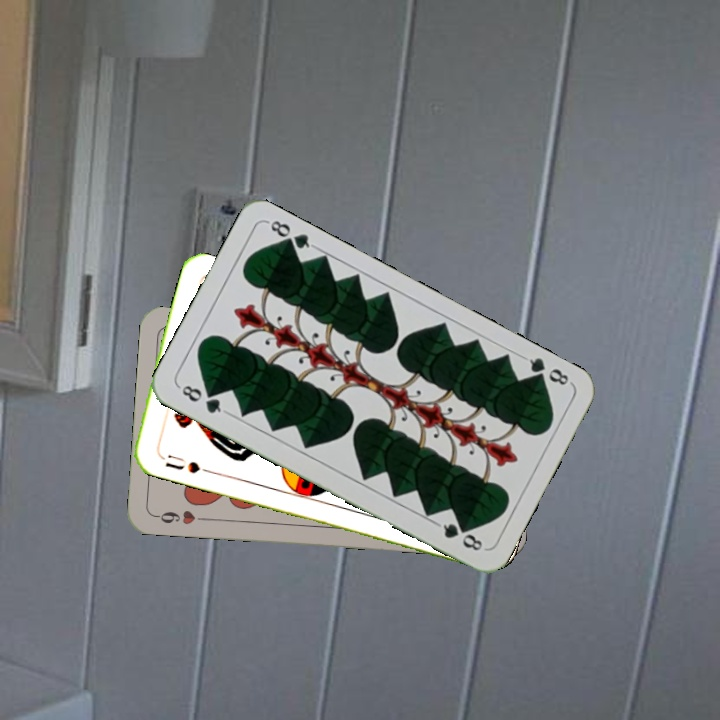G8: (519, 352, 574, 389), (175, 381, 229, 416)
H9: (151, 506, 210, 527)
SU: (154, 446, 203, 476)
